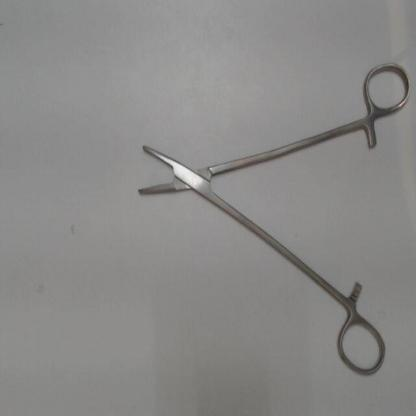8 Mayo Needle Holder: (131, 52, 414, 381)
